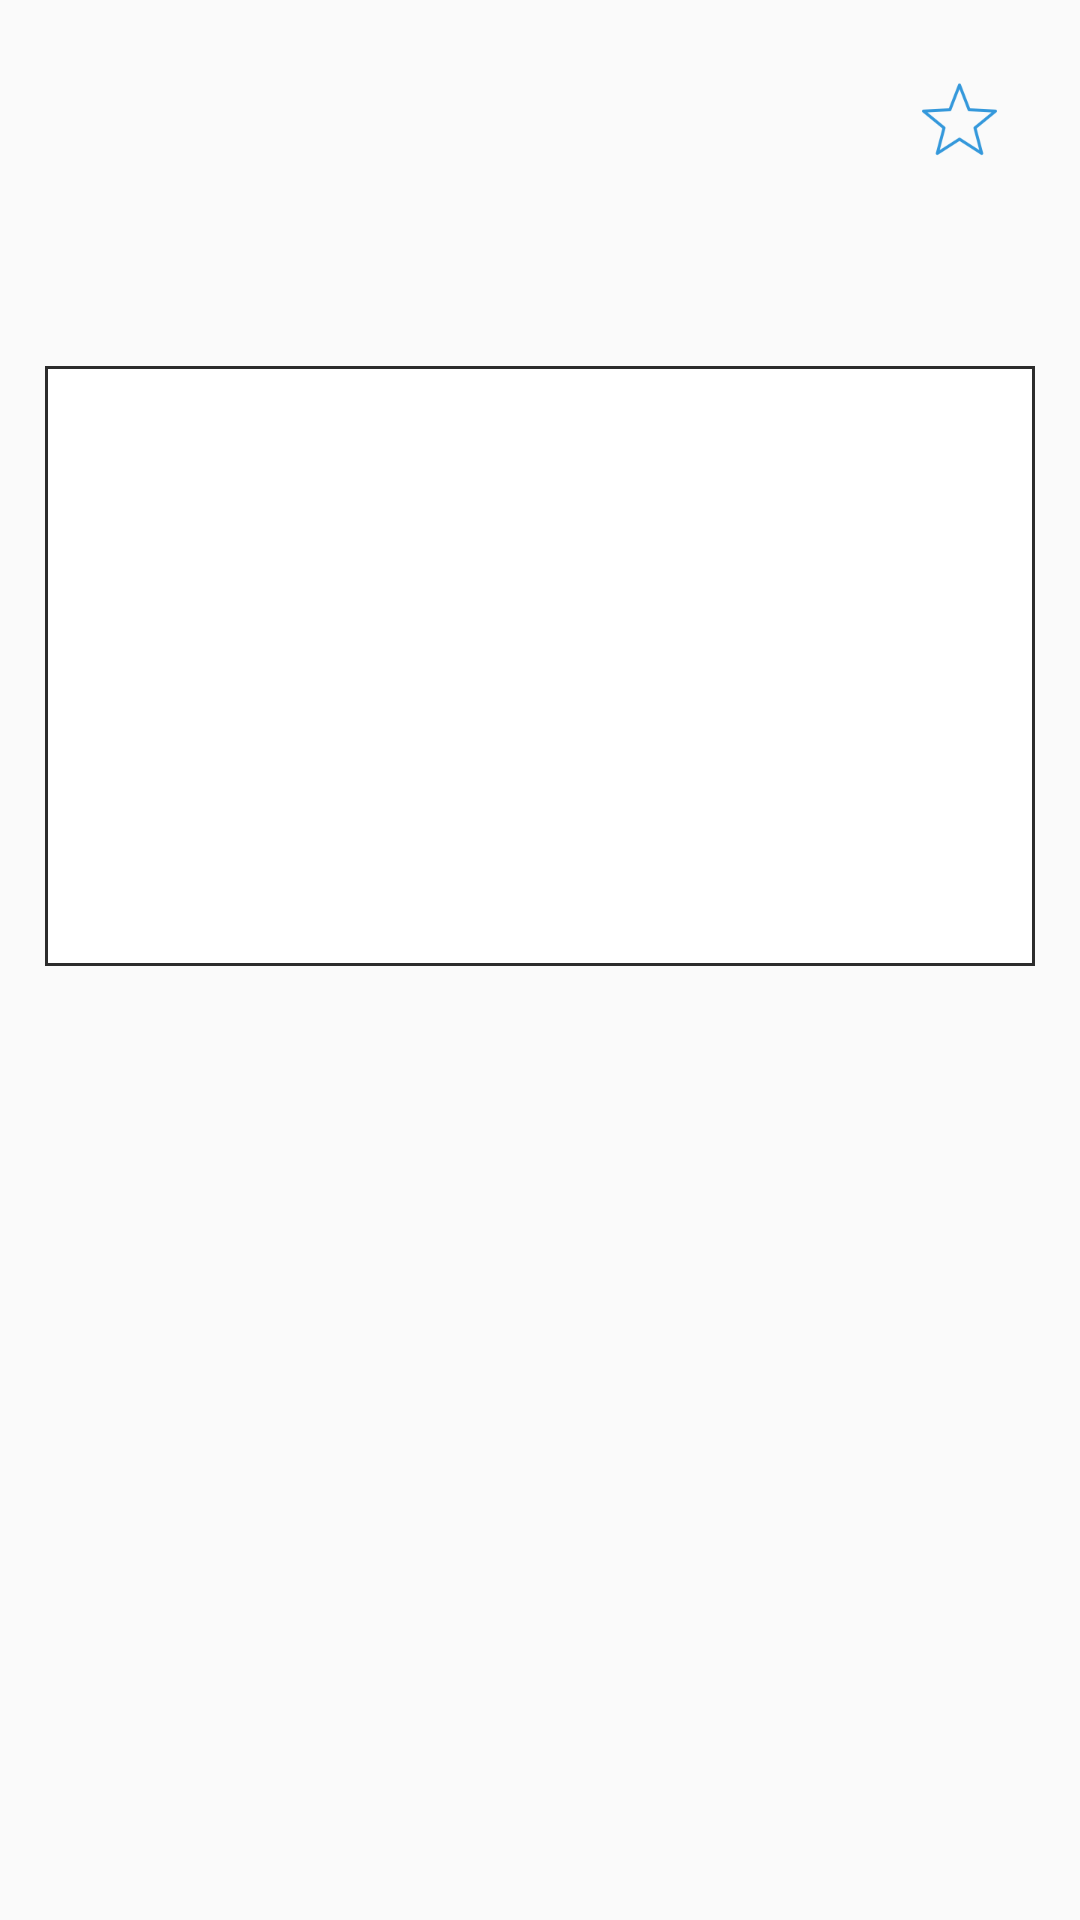

Icon bounding boxes for this 1080w x 1920h phone screenshot, format (x1=x1, y1=y1, x2=x2, y2=y2):
star off: (x1=922, y1=83, x2=997, y2=155)
